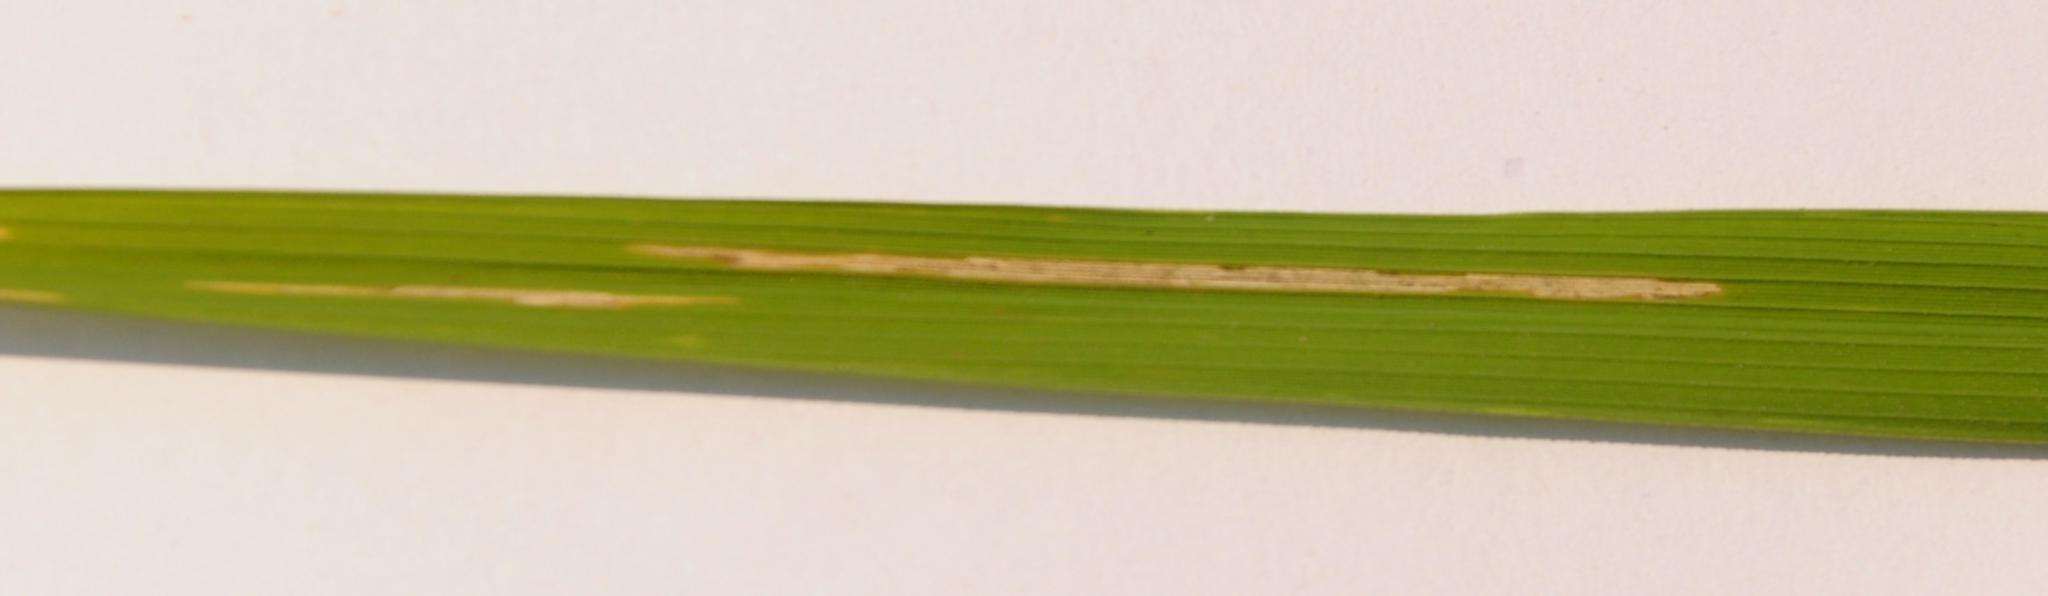2 BacterialBlight: (609, 225, 1779, 333), (165, 255, 822, 354)
